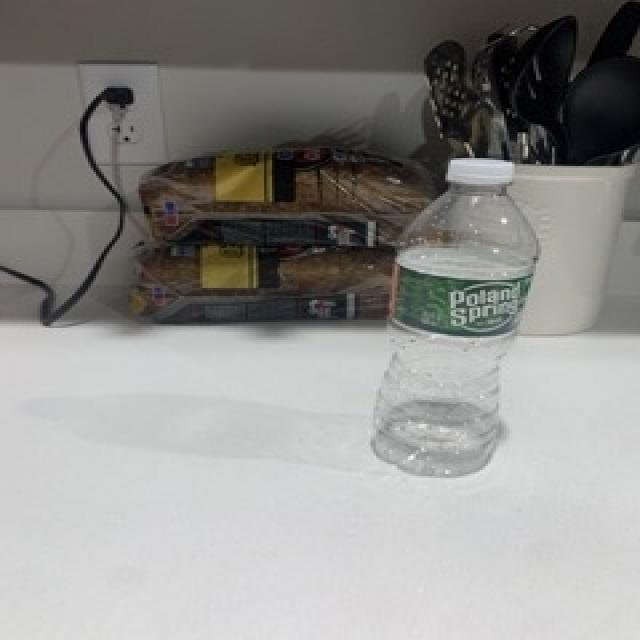water_bottle: (366, 157, 542, 480)
